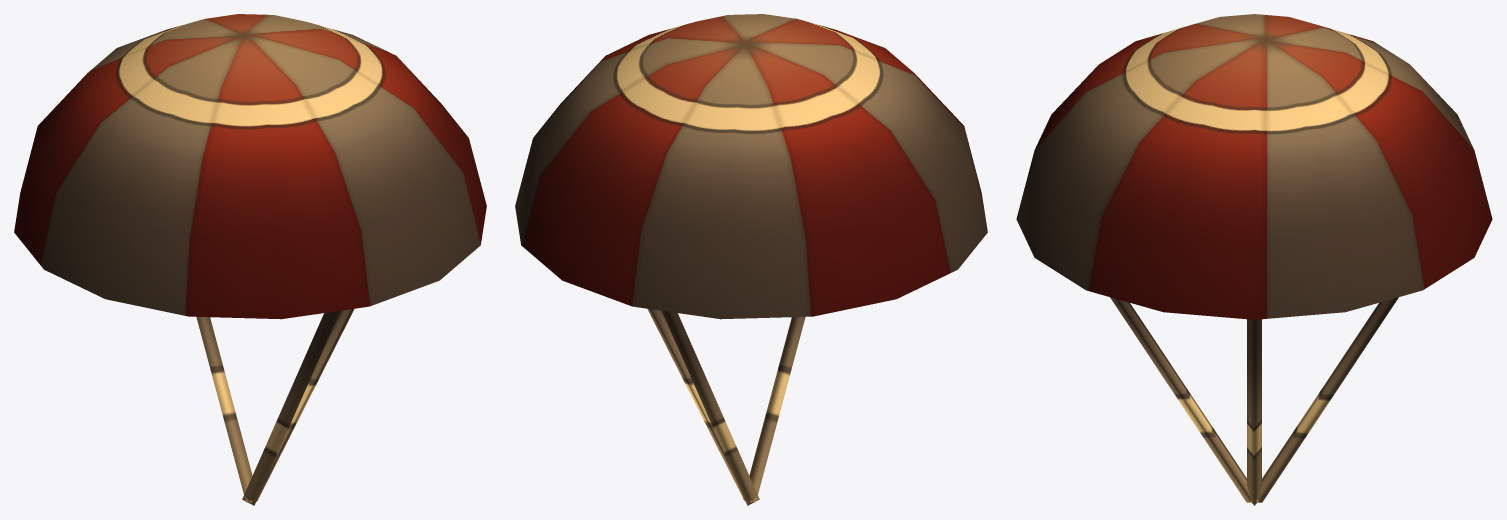
File: parachute.FBX
The picture shows the model from 3 angles, left to right: view 1: azimuth 30°, elevation 25°; view 2: azimuth 150°, elevation 25°; view 3: azimuth 270°, elevation 25°; orthographic projection.
Visible parts, largest first — view 1: Sphere001; view 2: Sphere001; view 3: Sphere001.
Part boxes in pixels (bbox=[...]): Sphere001: bbox=[14, 14, 486, 505]; Sphere001: bbox=[515, 14, 987, 505]; Sphere001: bbox=[1016, 14, 1492, 505].
Size of the model in its own units: 17.51 by 18.83 by 17.51.
1 material, 1 textured.
